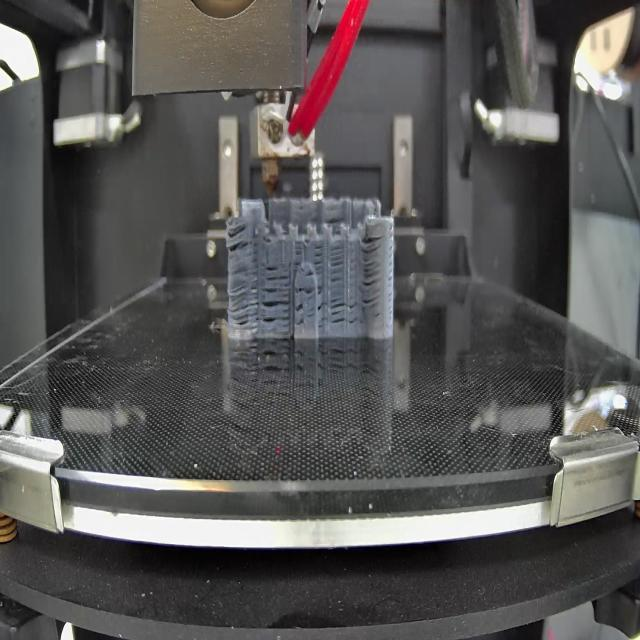cracks: (261, 263, 292, 340), (228, 268, 258, 332), (360, 236, 382, 306), (227, 222, 259, 252), (315, 245, 326, 332), (296, 286, 316, 330), (328, 246, 346, 288), (328, 297, 346, 326), (293, 239, 306, 266), (348, 303, 358, 326), (326, 217, 346, 227), (304, 271, 316, 279)
